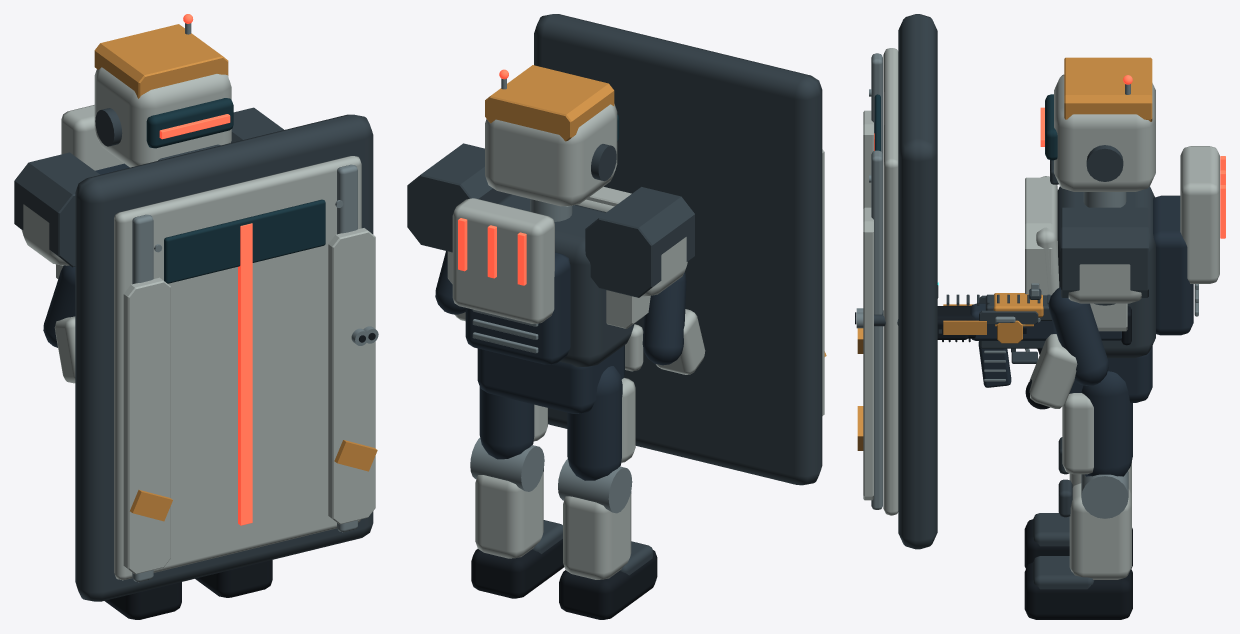
The model's file is commander-sentinel.glb.
The picture shows the model from 3 angles, left to right: view 1: azimuth 30°, elevation 25°; view 2: azimuth 150°, elevation 25°; view 3: azimuth 270°, elevation 25°; orthographic projection. The views are drawn at different scales.
Parts seen in each view (by area): view 1: shield_visual / Ceramic armor, shield_visual / Gunmetal, shield_visual / Sensor glass, head / Ceramic armor, elite Sentinel / Gunmetal, head / Safety ochre, shield_visual / Hostile sensor, shield_visual / Brushed titanium, head / Sensor glass, arm_L / Ceramic armor, torso / Ceramic armor, shield_visual / Safety ochre (+5 smaller); view 2: shield_visual / Gunmetal, elite Sentinel / Gunmetal, torso / Ceramic armor, head / Ceramic armor, head / Safety ochre, torso / Gunmetal, leg_L / Ceramic armor, hips / Graphite polymer, leg_R / Ceramic armor, leg_L / Graphite polymer, torso / Graphite polymer, leg_L / Grip rubber (+14 smaller); view 3: shield_visual / Gunmetal, shield_visual / Ceramic armor, torso / Ceramic armor, head / Ceramic armor, leg_R / Ceramic armor, elite Sentinel / Gunmetal, head / Safety ochre, arm_R / Ceramic armor, torso / Graphite polymer, shield_visual / Brushed titanium, leg_R / Grip rubber, leg_R / Graphite polymer (+15 smaller).
Part boxes in pixels (box(x1,y1,x2,y2)): shield_visual / Ceramic armor: box(114, 156, 375, 580); shield_visual / Gunmetal: box(75, 114, 373, 601); shield_visual / Sensor glass: box(164, 199, 325, 283); head / Ceramic armor: box(94, 67, 231, 167); elite Sentinel / Gunmetal: box(14, 107, 283, 267); head / Safety ochre: box(94, 24, 228, 98); shield_visual / Hostile sensor: box(238, 223, 252, 525); shield_visual / Brushed titanium: box(132, 164, 357, 582); head / Sensor glass: box(146, 98, 233, 148); arm_L / Ceramic armor: box(21, 204, 75, 383); torso / Ceramic armor: box(56, 105, 123, 278); shield_visual / Safety ochre: box(130, 440, 377, 521); shield_visual / Gunmetal: box(534, 14, 822, 485); elite Sentinel / Gunmetal: box(407, 143, 694, 297); torso / Ceramic armor: box(447, 186, 650, 328); head / Ceramic armor: box(485, 104, 617, 206); head / Safety ochre: box(485, 65, 614, 141); torso / Gunmetal: box(497, 194, 634, 367); leg_L / Ceramic armor: box(563, 378, 635, 579); hips / Graphite polymer: box(477, 345, 624, 413); leg_R / Ceramic armor: box(475, 404, 547, 558); leg_L / Graphite polymer: box(567, 366, 622, 480); torso / Graphite polymer: box(465, 252, 570, 364); leg_L / Grip rubber: box(559, 550, 657, 619); shield_visual / Gunmetal: box(898, 14, 937, 549); shield_visual / Ceramic armor: box(863, 48, 898, 515); torso / Ceramic armor: box(1025, 146, 1219, 348); head / Ceramic armor: box(1054, 74, 1155, 191); leg_R / Ceramic armor: box(1062, 393, 1131, 579); elite Sentinel / Gunmetal: box(1061, 207, 1148, 297); head / Safety ochre: box(1064, 57, 1152, 121); arm_R / Ceramic armor: box(1029, 264, 1141, 408); torso / Graphite polymer: box(1153, 195, 1193, 335); shield_visual / Brushed titanium: box(869, 53, 882, 509); leg_R / Grip rubber: box(1024, 562, 1132, 619); leg_R / Graphite polymer: box(1081, 371, 1132, 476).
Bounding box in the file's own units: 1.05 × 1.79 × 1.13.
